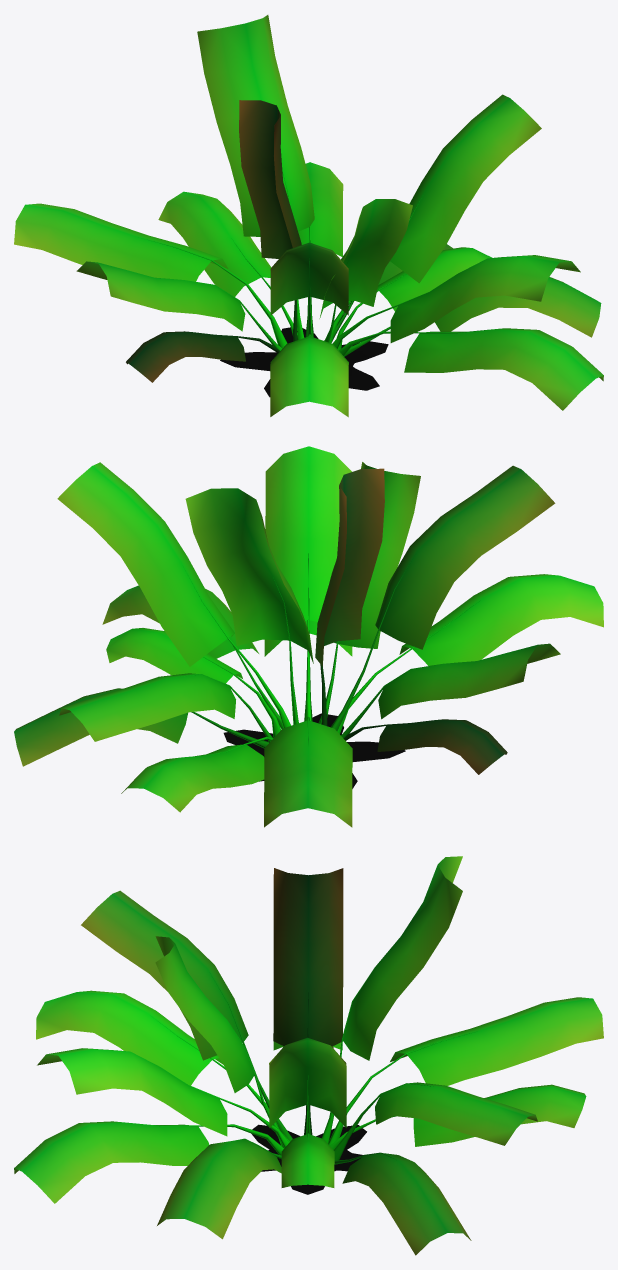
The model's file is Fern 2.fbx.
The picture shows the model from 3 angles, top to bottom: view 1: azimuth 30°, elevation 25°; view 2: azimuth 150°, elevation 25°; view 3: azimuth 270°, elevation 25°; orthographic projection. The views are drawn at different scales.
Visible parts, largest first — view 1: _0.001; view 2: _0.001; view 3: _0.001.
Part boxes in pixels (x1=…): _0.001: x1=14, y1=15, x2=603, y2=417; _0.001: x1=14, y1=446, x2=603, y2=827; _0.001: x1=14, y1=856, x2=603, y2=1255.
Size of the model in its own units: 3.38 by 2.98 by 1.88.
